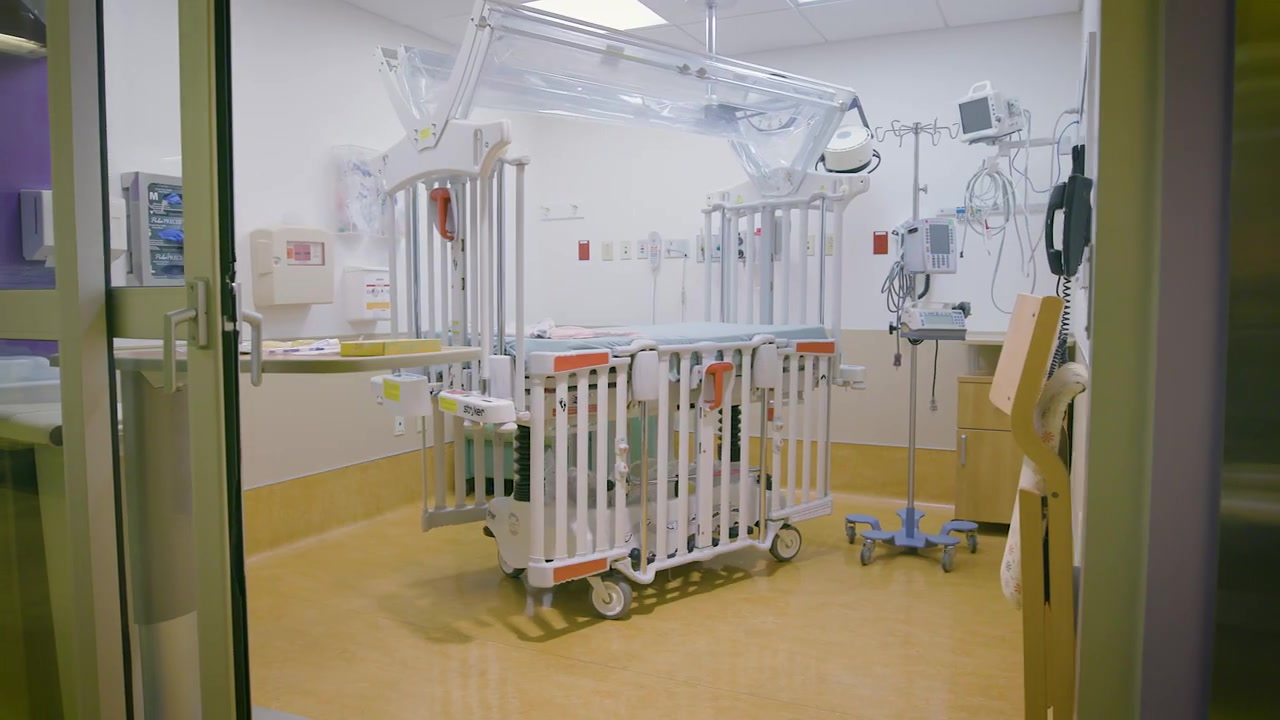bedrail: (669, 344, 775, 561), (428, 325, 537, 535), (554, 358, 644, 589), (793, 327, 847, 517)
bedside_monitor: (949, 86, 1031, 157)
bedside_table: (953, 338, 1075, 528)
dispenser: (128, 173, 200, 283), (15, 186, 66, 274), (350, 267, 393, 322)
door_handle: (158, 268, 216, 406), (230, 264, 268, 405)
handle: (956, 421, 971, 472)
hospital_bed: (386, 119, 869, 620)
infusion_pump: (899, 214, 958, 275)
iv_pole: (874, 118, 961, 576)
medical_waste_container: (251, 220, 338, 304)
overbed_table: (74, 328, 490, 719)
syringe_pump: (893, 309, 972, 351)
telephone: (1043, 173, 1093, 278)
